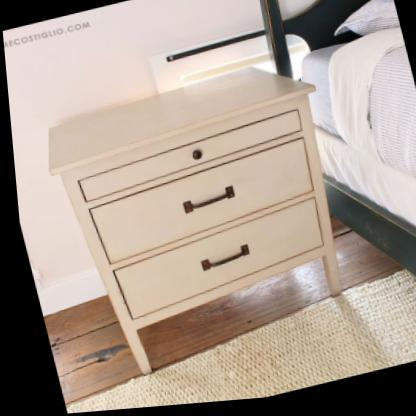Nightstand: (23, 51, 378, 399)
